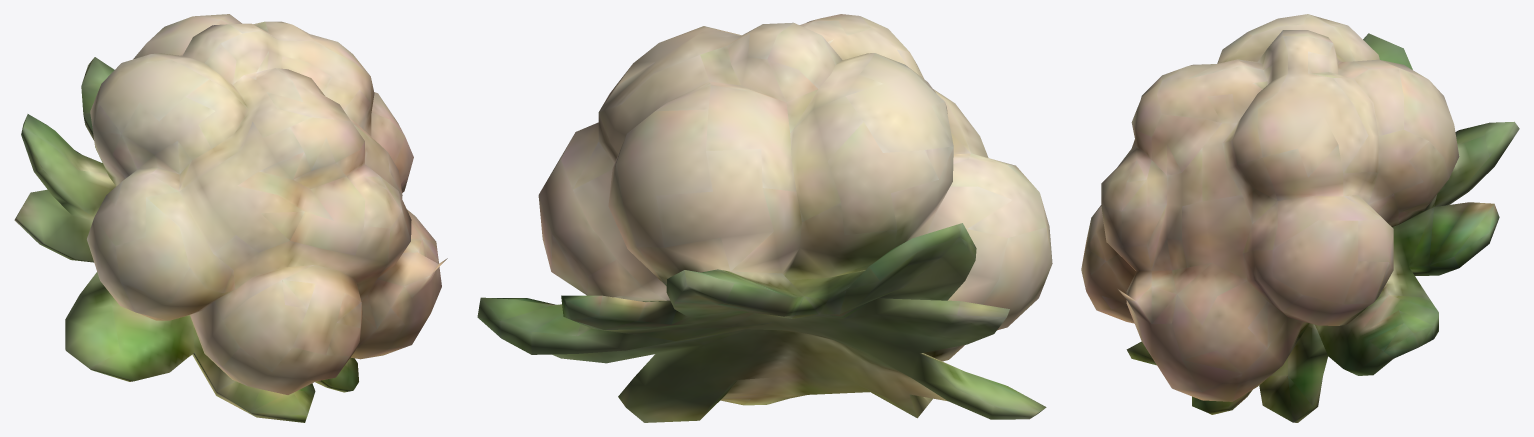
File: cauliflower.glb
3 renders of one model, left to right at view 1: azimuth 30°, elevation 25°; view 2: azimuth 150°, elevation 25°; view 3: azimuth 270°, elevation 25°, orthographic. The views are drawn at different scales.
Visible parts, largest first — view 1: Cauliflower; view 2: Cauliflower; view 3: Cauliflower.
Part boxes in pixels (<box>): Cauliflower: <box>14,14,447,422</box>; Cauliflower: <box>477,14,1052,422</box>; Cauliflower: <box>1081,14,1519,422</box>.
Size of the model in its own units: 1.97 by 1.68 by 1.94.
Materials: 1 (1 with a texture image).
